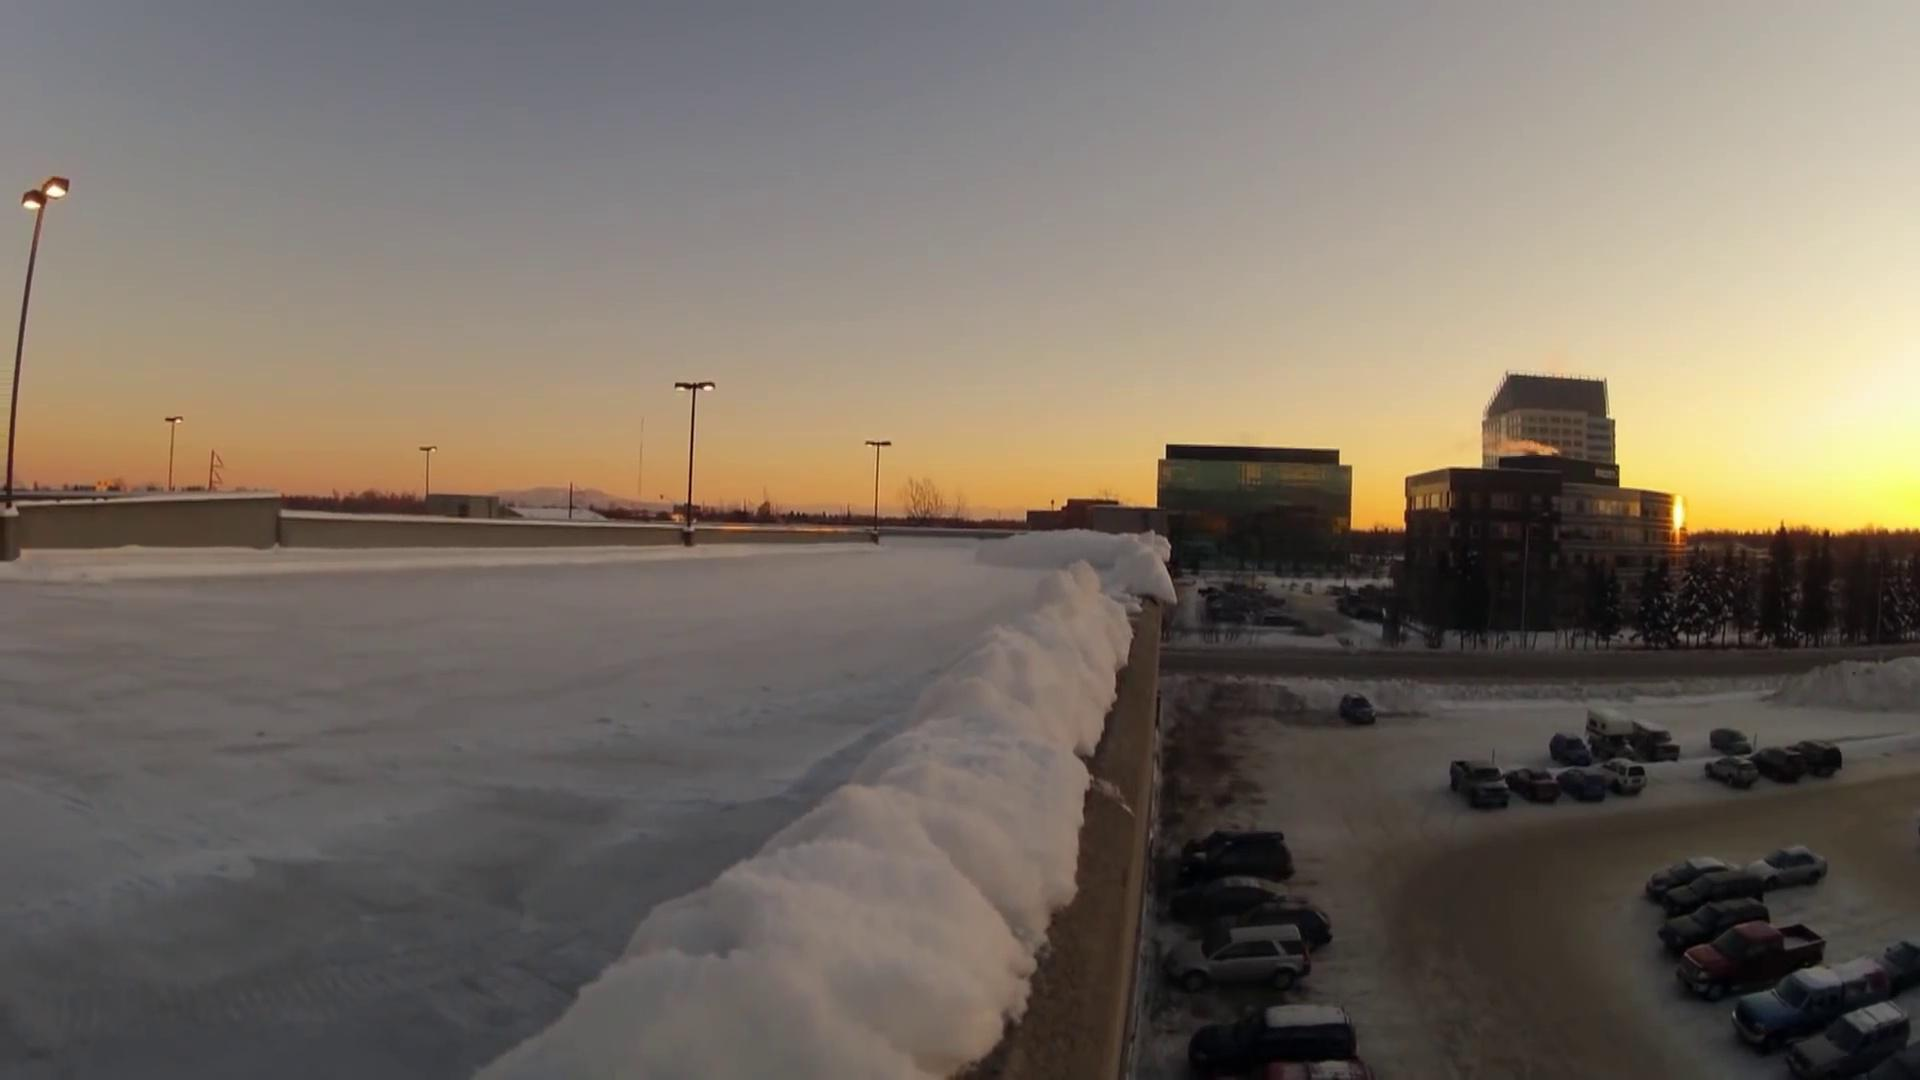Fire: (1482, 442, 1564, 458)
